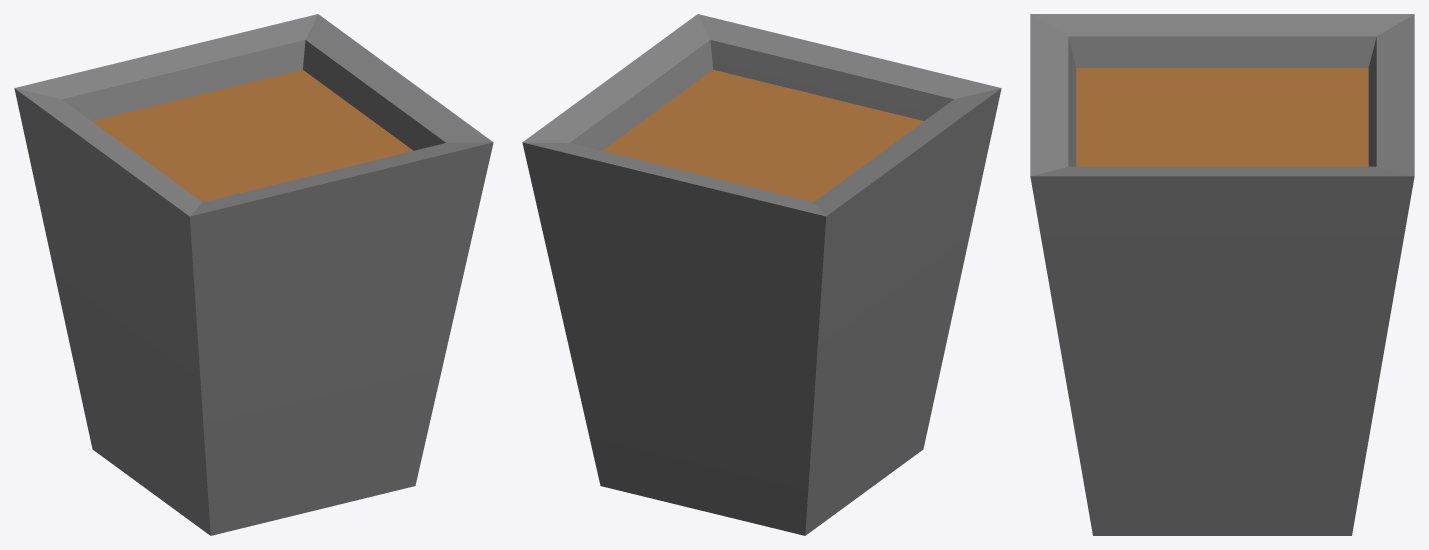
The model's file is PlantPot_4_C.fbx.
The picture shows the model from 3 angles, left to right: view 1: azimuth 30°, elevation 25°; view 2: azimuth 150°, elevation 25°; view 3: azimuth 270°, elevation 25°; orthographic projection. The views are drawn at different scales.
Visible parts, largest first — view 1: PlantPot_4_C; view 2: PlantPot_4_C; view 3: PlantPot_4_C.
Part boxes in pixels (bbox=[...]): PlantPot_4_C: bbox=[14, 14, 493, 535]; PlantPot_4_C: bbox=[522, 14, 1001, 535]; PlantPot_4_C: bbox=[1030, 14, 1414, 535].
Bounding box in the file's own units: 21.63 × 23.98 × 21.63.
